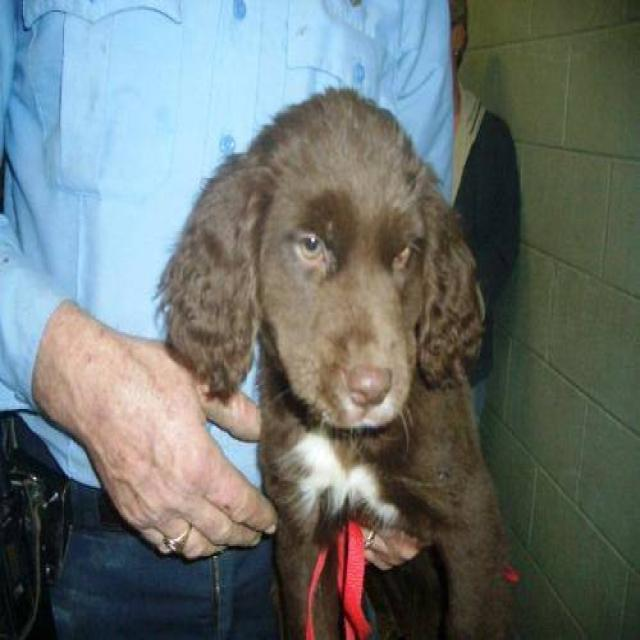Dog: (158, 65, 495, 455)
